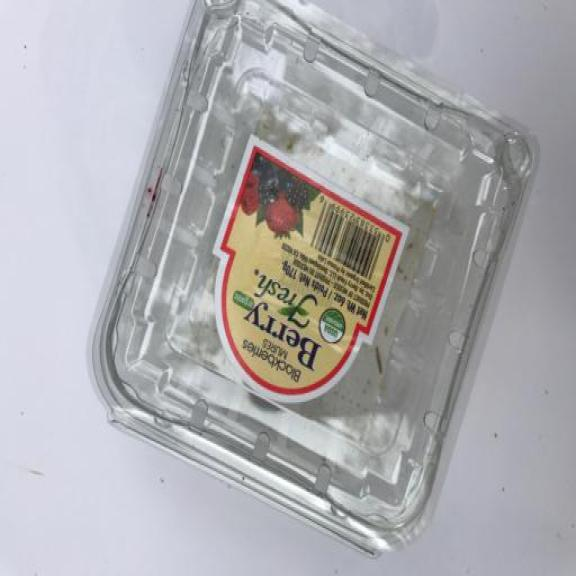Plastik: (75, 0, 535, 566)
